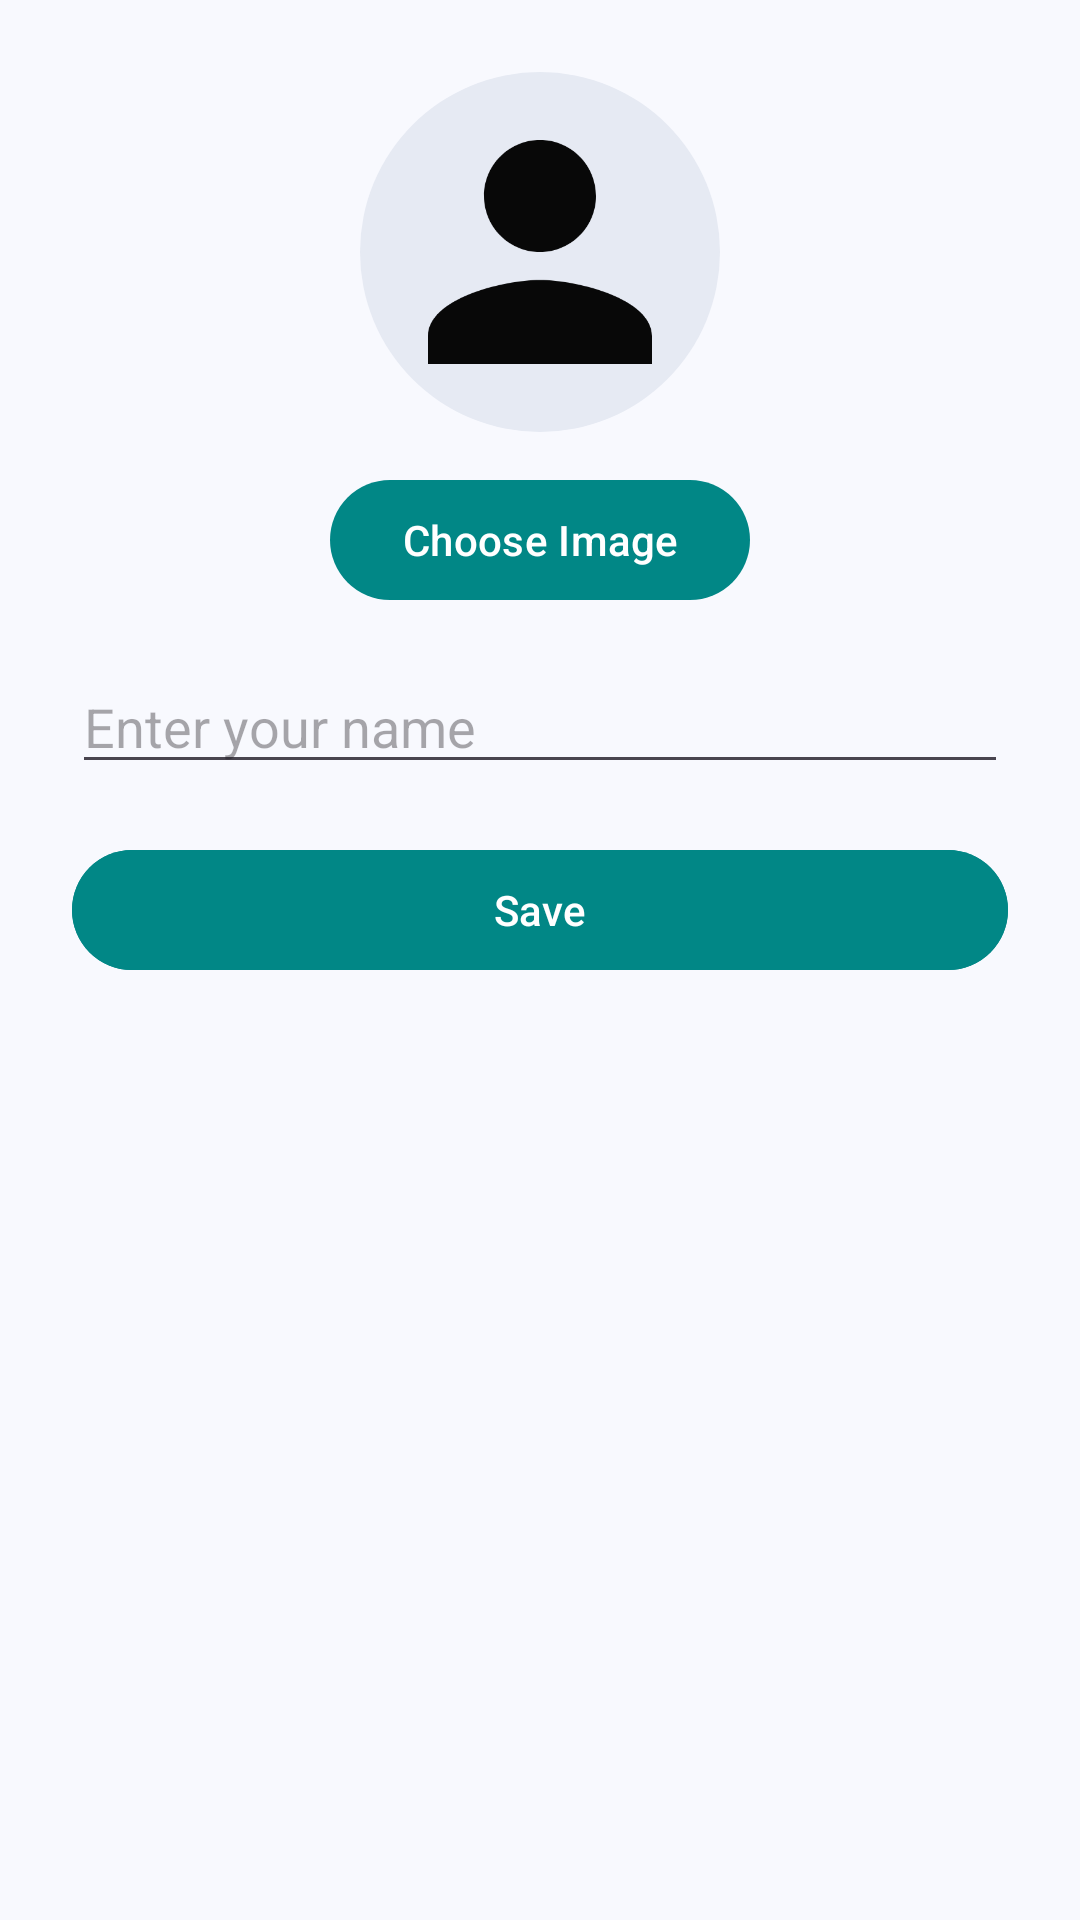

Icon click points for this 1080w x 1920h phone screenshot, format point (x, y):
person: point (540, 252)
